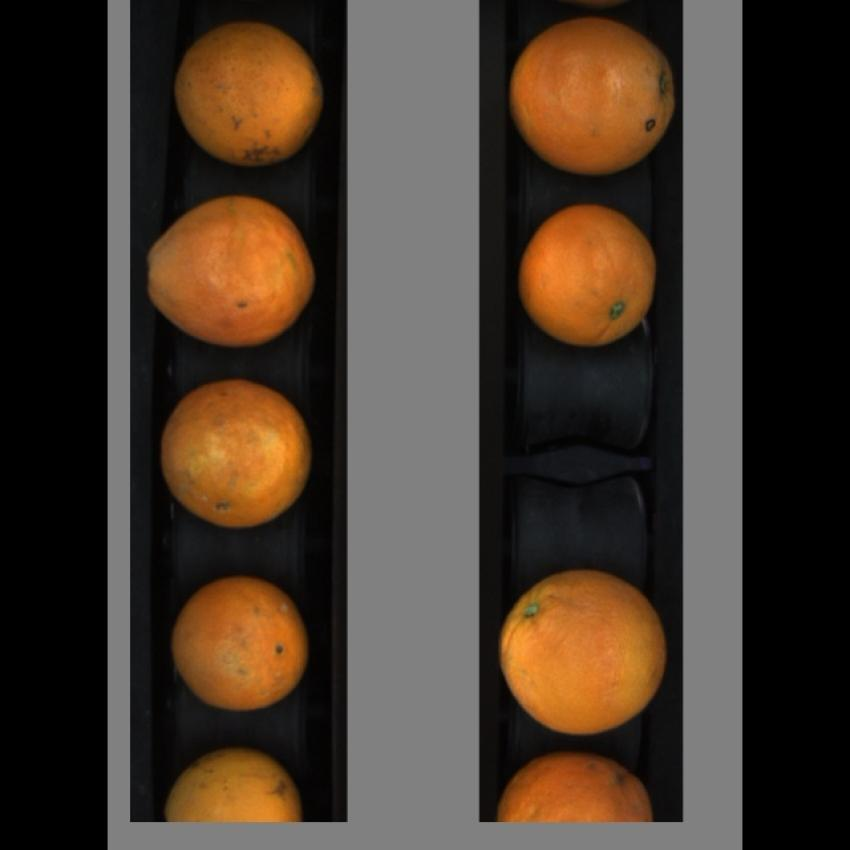Buen estado: (496, 563, 670, 735)
Mal estado: (142, 185, 328, 350), (507, 14, 675, 172), (158, 368, 314, 532), (169, 16, 327, 168), (518, 202, 659, 352), (169, 569, 313, 714), (493, 748, 656, 820), (161, 744, 312, 818)
